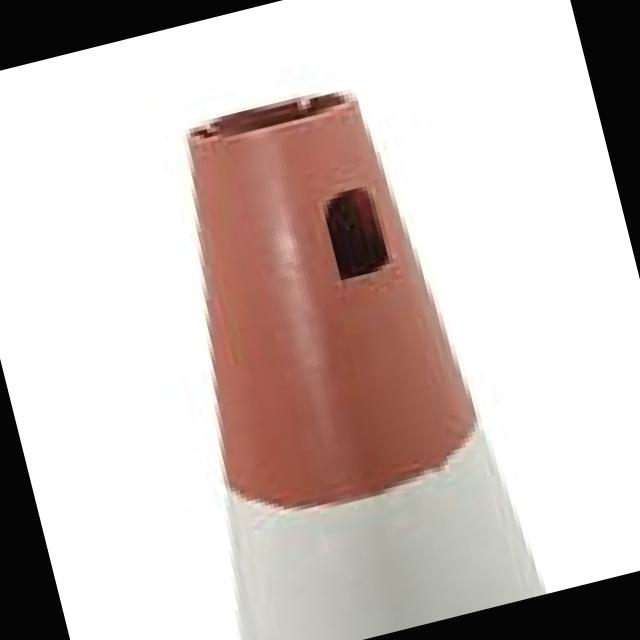cone: (91, 52, 555, 640)
